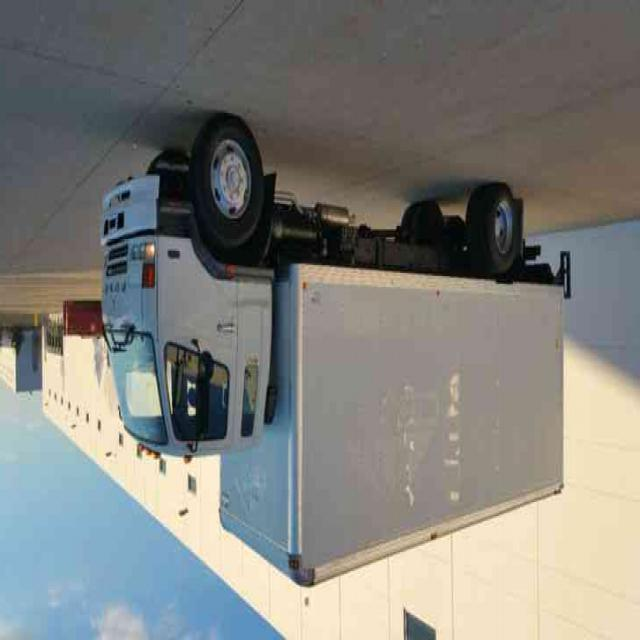truck: (100, 124, 574, 584)
